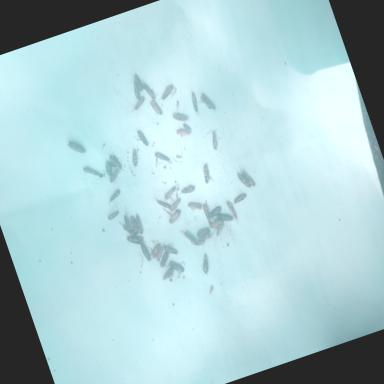pbw: (224, 198, 242, 228), (150, 148, 174, 170), (199, 90, 219, 116), (180, 225, 200, 250), (118, 217, 138, 241), (140, 76, 158, 102), (66, 136, 87, 158), (207, 218, 227, 239), (134, 129, 150, 153), (188, 91, 202, 117), (153, 194, 171, 214), (200, 162, 215, 186), (166, 207, 186, 225), (126, 230, 146, 248), (168, 258, 186, 278), (196, 232, 218, 248), (105, 188, 124, 206), (121, 208, 134, 234), (198, 254, 213, 276), (171, 107, 189, 125), (158, 83, 177, 100), (242, 166, 256, 189), (160, 186, 180, 202), (237, 170, 252, 191), (127, 146, 141, 168), (82, 163, 100, 180), (108, 152, 123, 172), (208, 130, 222, 151), (156, 252, 172, 270), (149, 98, 163, 118), (187, 198, 204, 214), (148, 243, 164, 260), (128, 214, 140, 236), (133, 214, 145, 236), (160, 266, 176, 282), (106, 168, 122, 184), (178, 182, 196, 196), (140, 243, 152, 263), (216, 212, 234, 225), (131, 80, 142, 101), (132, 96, 148, 110), (168, 198, 184, 212), (164, 242, 178, 258), (207, 206, 224, 219), (133, 73, 144, 93), (202, 202, 212, 222), (195, 226, 211, 238), (176, 127, 192, 139), (104, 159, 115, 176), (232, 193, 249, 204), (106, 208, 120, 221), (182, 122, 192, 132)
